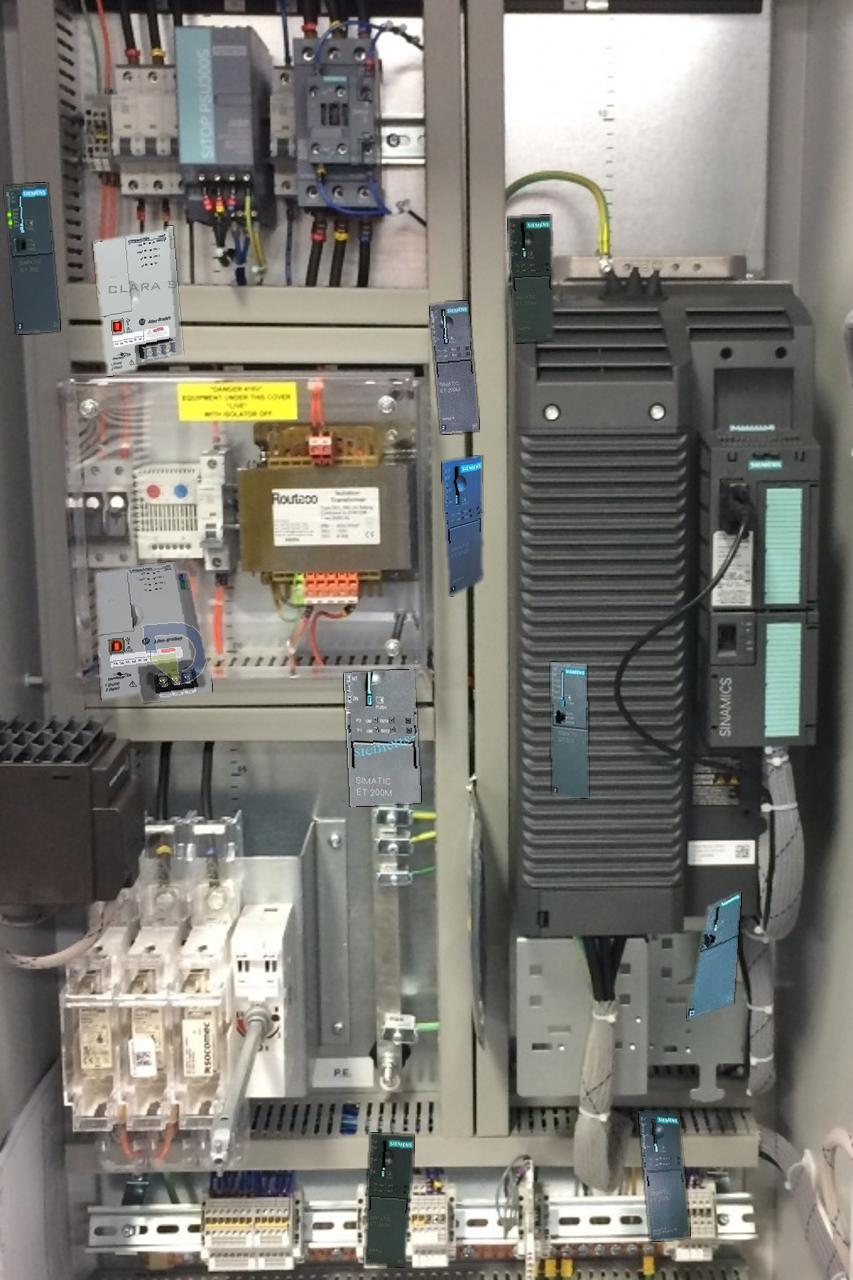AllenBradley: (95, 562, 211, 702), (93, 226, 182, 375)
Siemens: (5, 182, 59, 334), (686, 891, 741, 1019), (551, 662, 587, 797)
